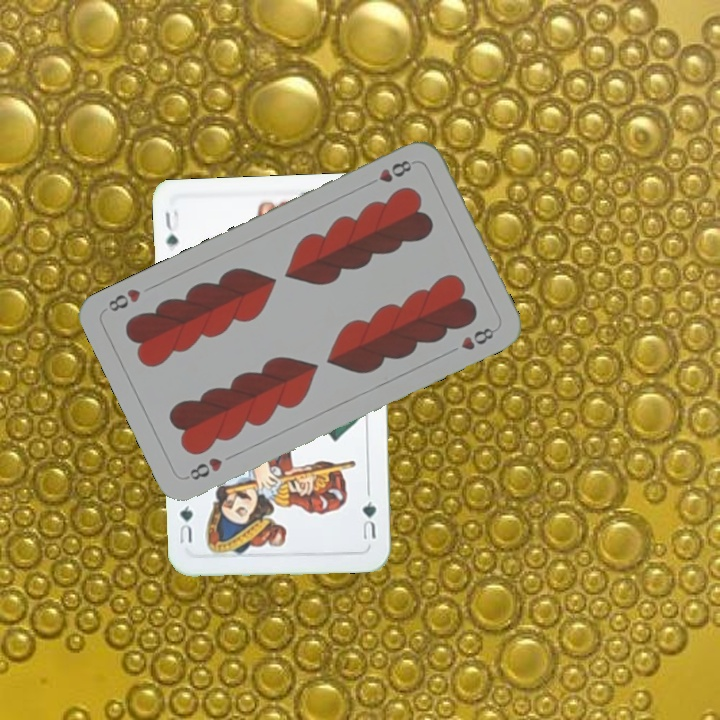GU: (161, 207, 182, 254), (358, 497, 379, 542)
H8: (362, 156, 414, 189), (182, 453, 225, 483)
